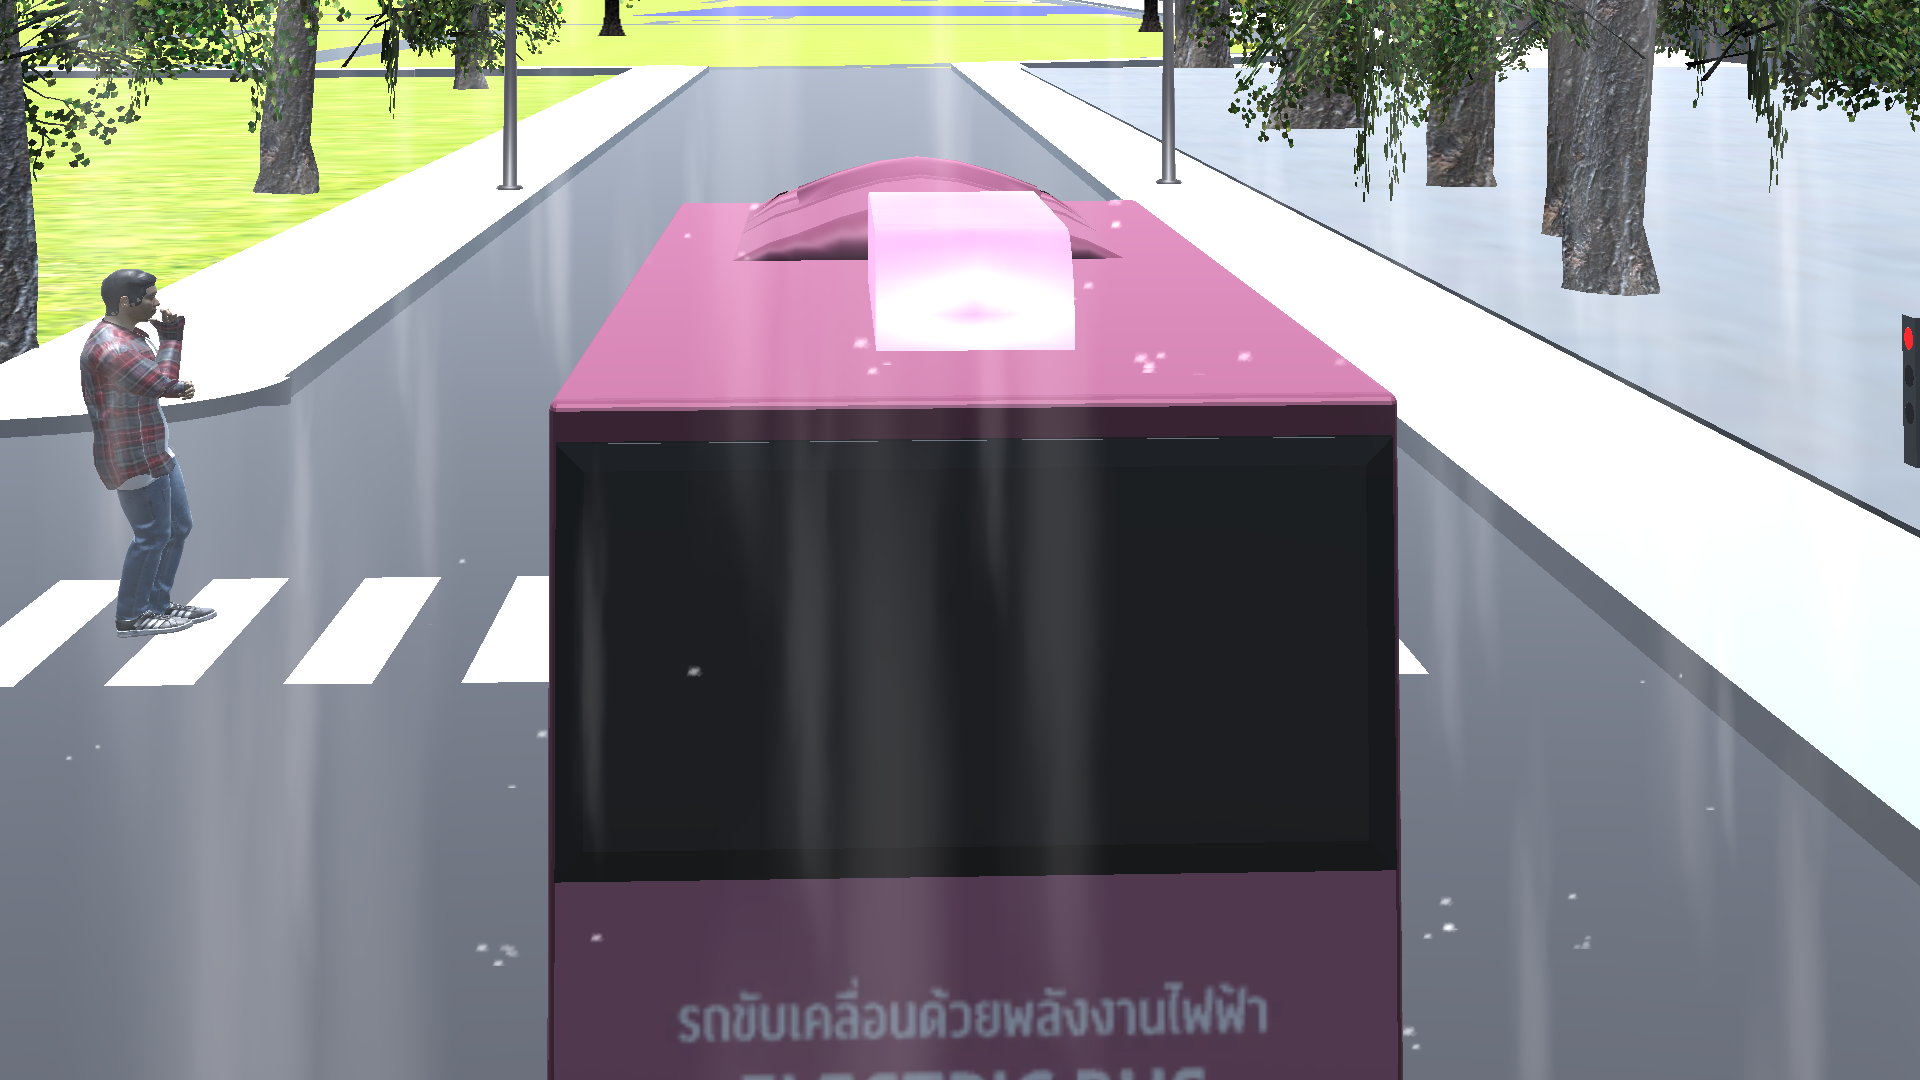pedestrian: (70, 260, 243, 650)
